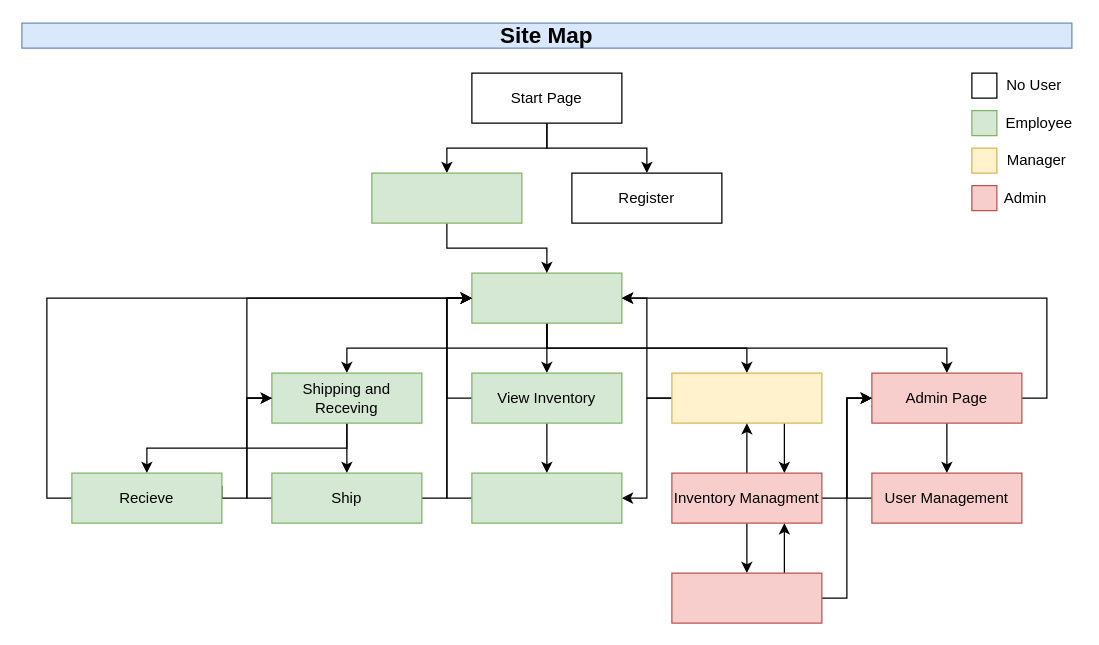
The diagram is 1099 pixels wide and 645 high, and some of its shapes have lost their labels. The centre of each missing label's shape, as x and y in pixels:
Add Inventory: pixel 746 397
Home: pixel 546 297
Login: pixel 446 197
Remove Inventory: pixel 746 597
View Item: pixel 546 497
